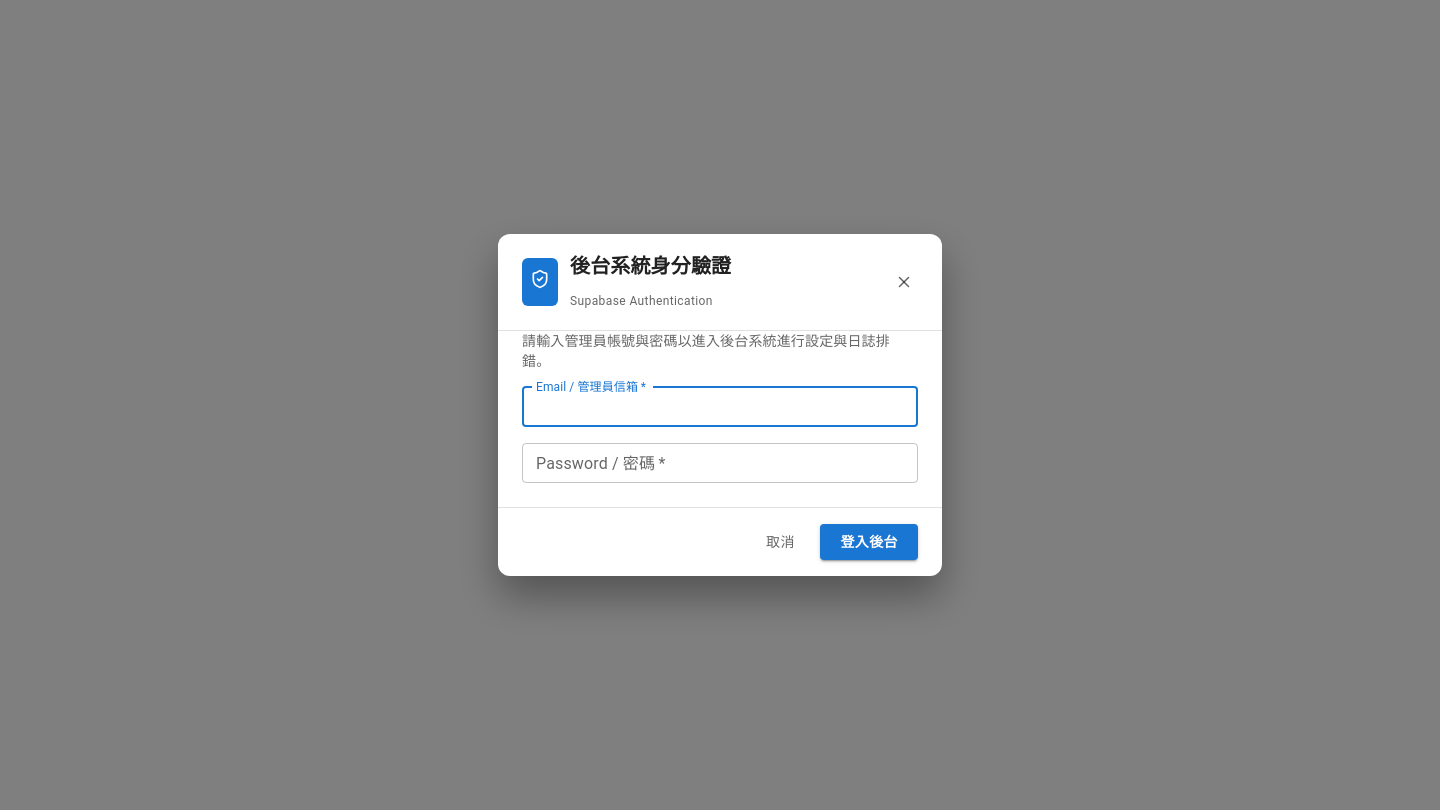
Test case: AdminLoginModal Component › displays warning when session is null despite successful auth (e.g. email unconfirmed)
Type "unconfirmed@user.com" into the field labelled "Email / 管理員信箱 *".
click(720, 407); type("unconfirmed@user.com")  # box [522,387,918,427]
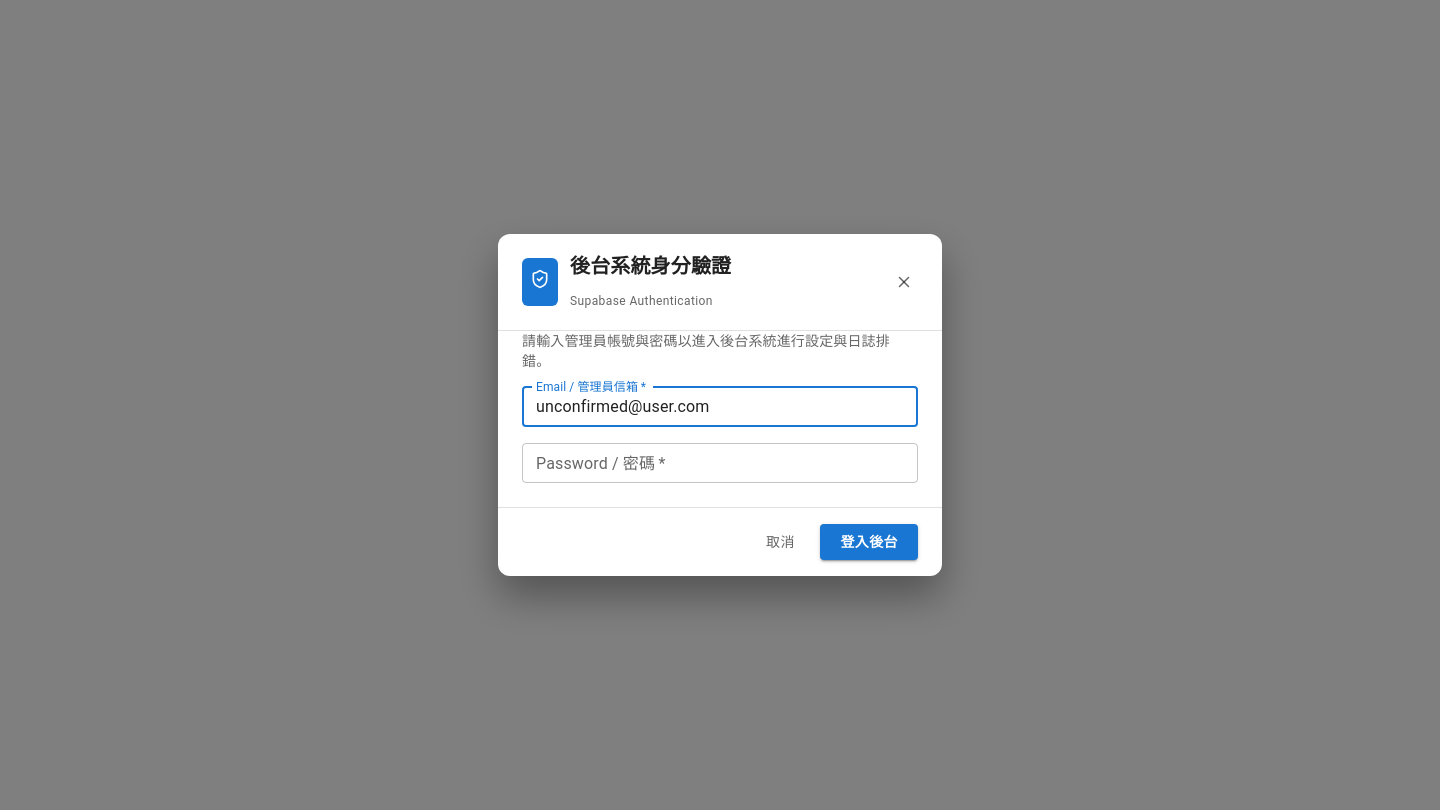
Type "pass123" into the password field labelled "Password / 密碼 *".
click(720, 463); type("pass123")  # box [522,443,918,483]
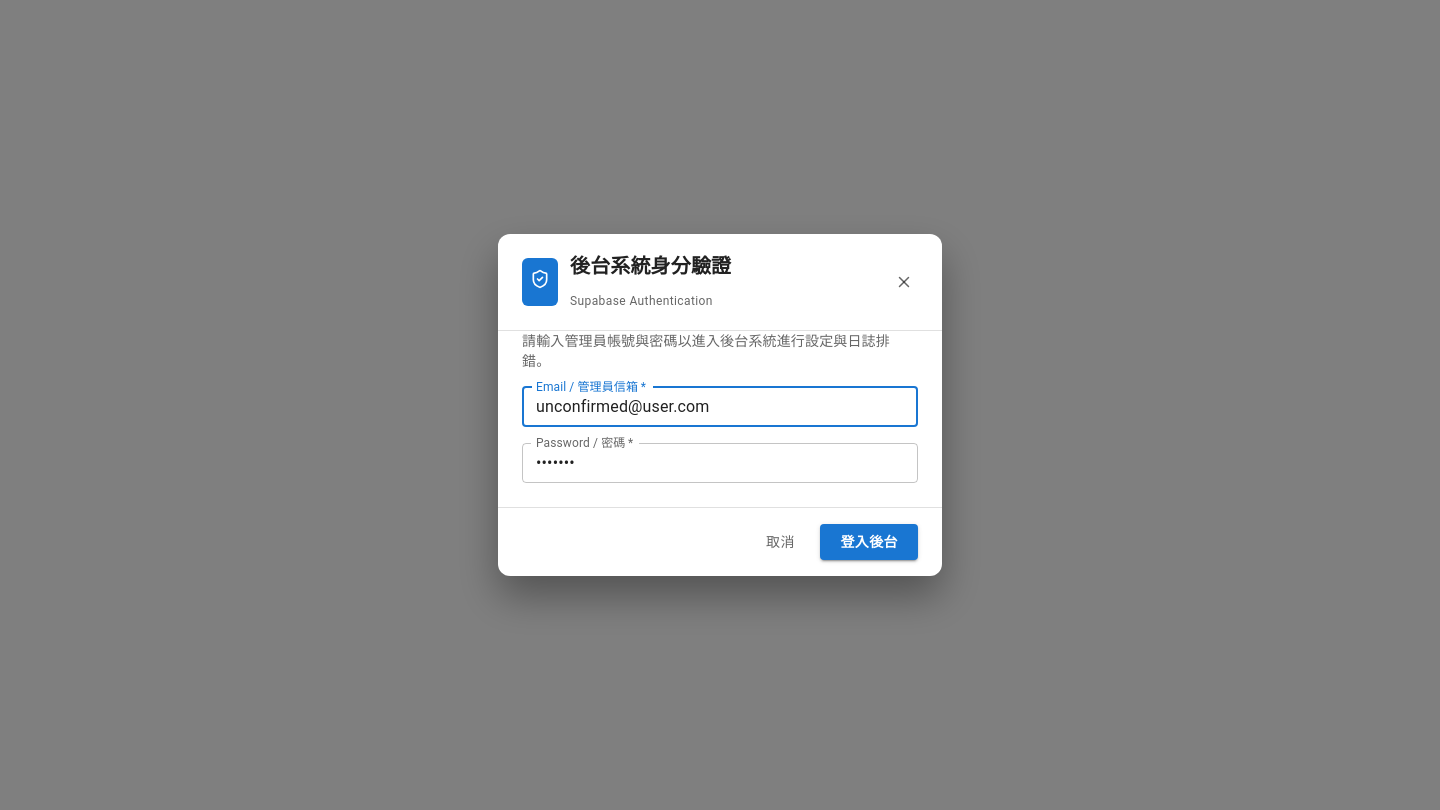
Click the button "登入後台".
click(869, 542)  # box [820,524,918,560]
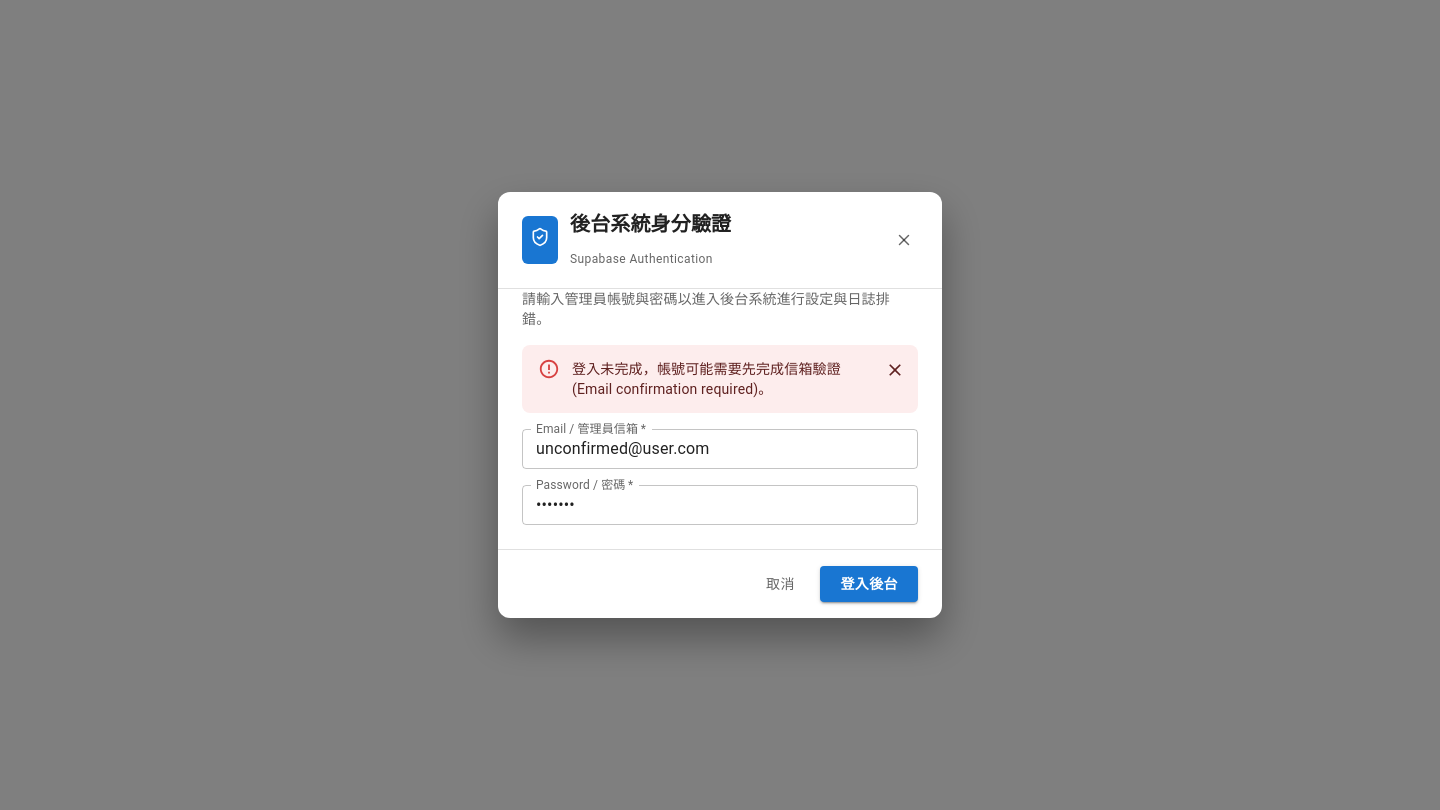
Now the text "登入未完成，帳號可能需要先完成信箱驗證 (Email confirmation required)。" is shown, box [572,351,864,407]
